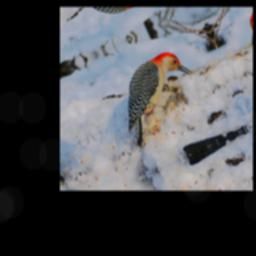Woodpecker: (103, 44, 213, 153)
